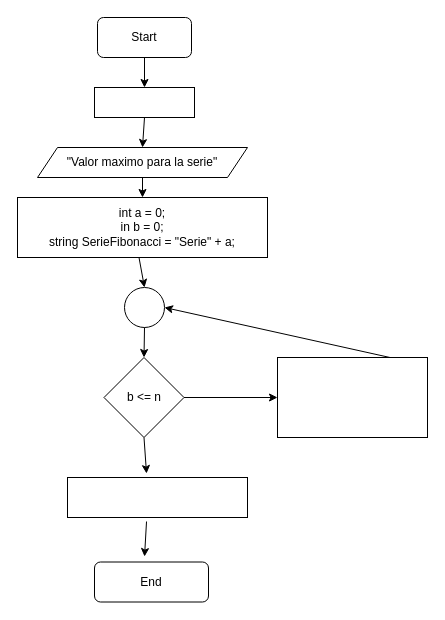
Image size: 445x620. Some labels were removed from this diagram. The centre of each missing label's shape, as x and y in pixels:
int n: [144,102]
serieFibonacci += ", " + b; int temp = a + b; a = b; b = temp;: [352,397]
textbox2.Text = SerieFibonacci;: [157,497]
